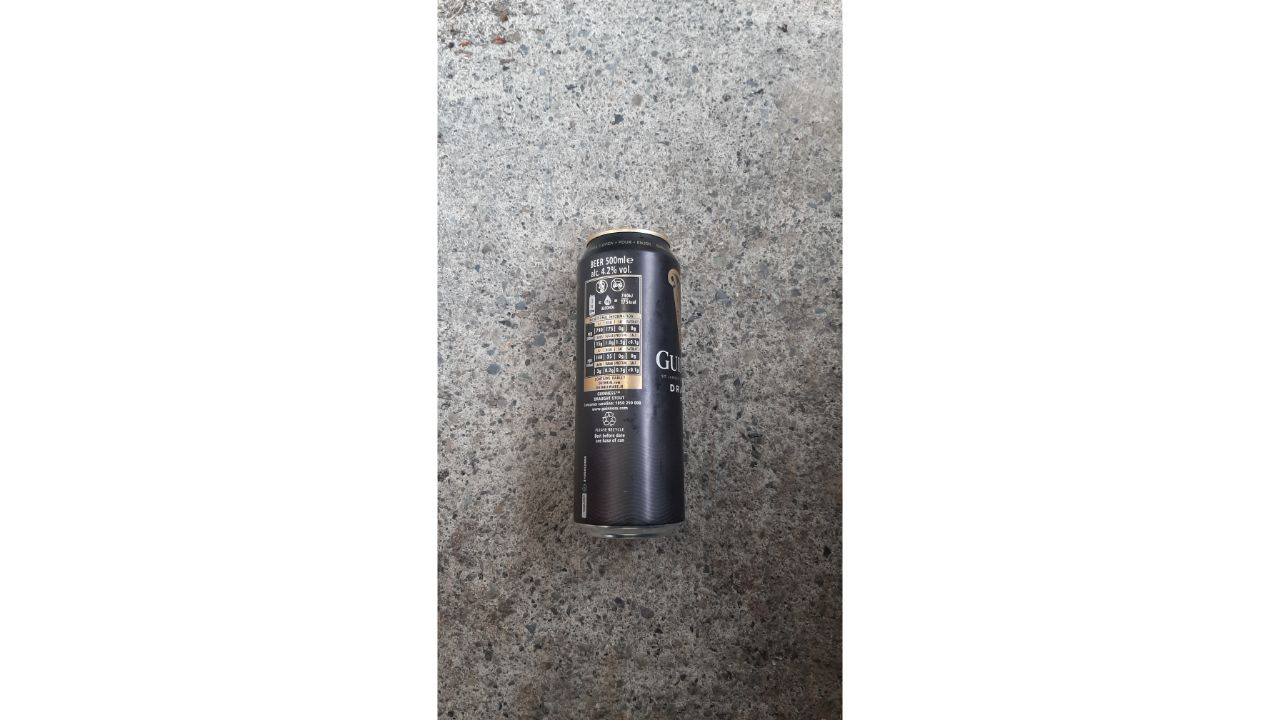Can: (556, 205, 707, 560)
